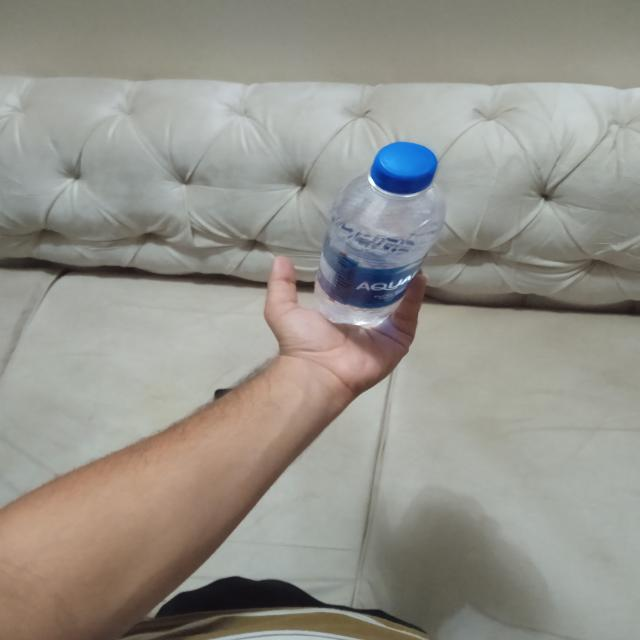Plastic: (316, 143, 441, 329)
